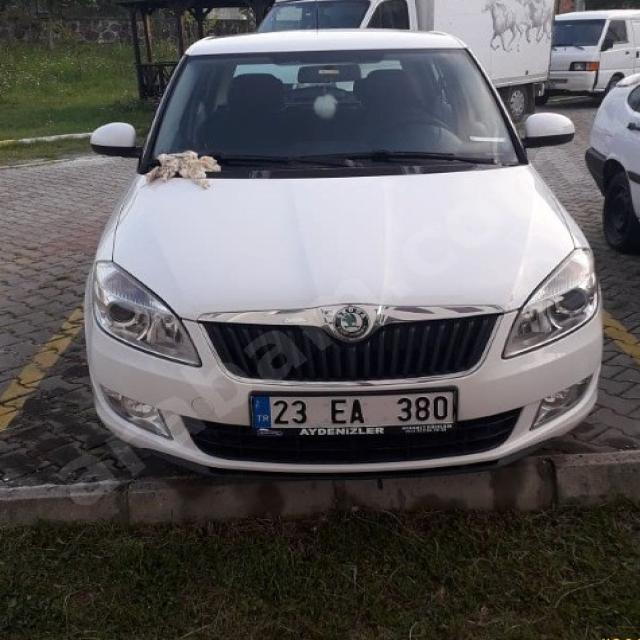license_plate: (250, 390, 456, 430)
